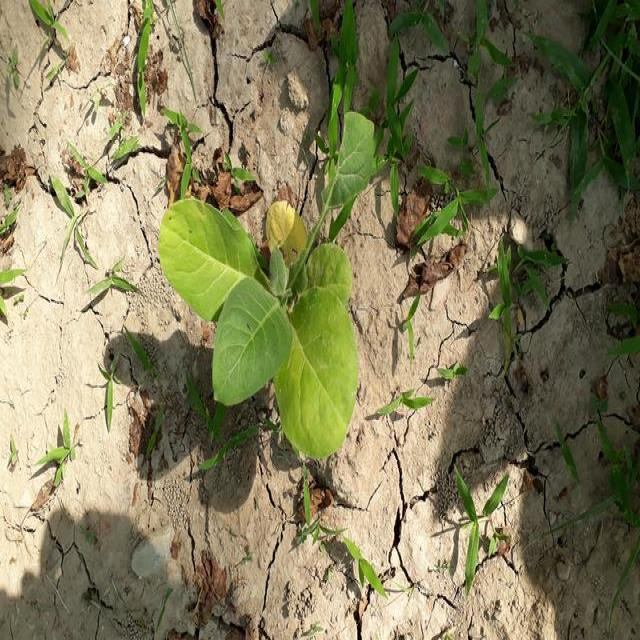crop: (157, 88, 380, 454)
